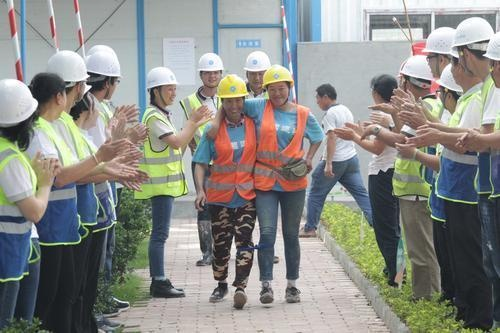none: (27, 72, 66, 122), (370, 73, 398, 106), (315, 82, 337, 111)
white: (2, 76, 36, 143), (453, 16, 489, 76), (49, 51, 86, 104), (85, 50, 120, 101), (398, 55, 434, 98), (424, 25, 454, 76), (144, 65, 178, 106), (437, 63, 463, 111), (244, 49, 269, 89), (197, 52, 223, 90)
yellow: (262, 65, 294, 106), (217, 72, 246, 117)
